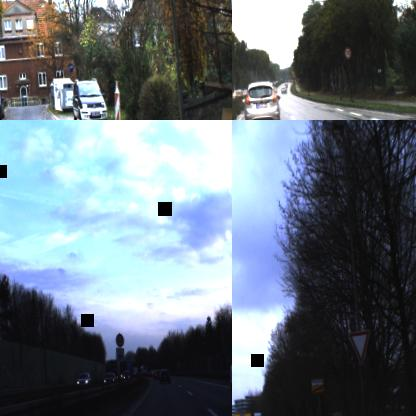give way: (348, 329, 372, 366)
go right or straight: (67, 62, 74, 72)
speed limit 70: (343, 46, 352, 60)
speed limit 80: (115, 332, 124, 348)
